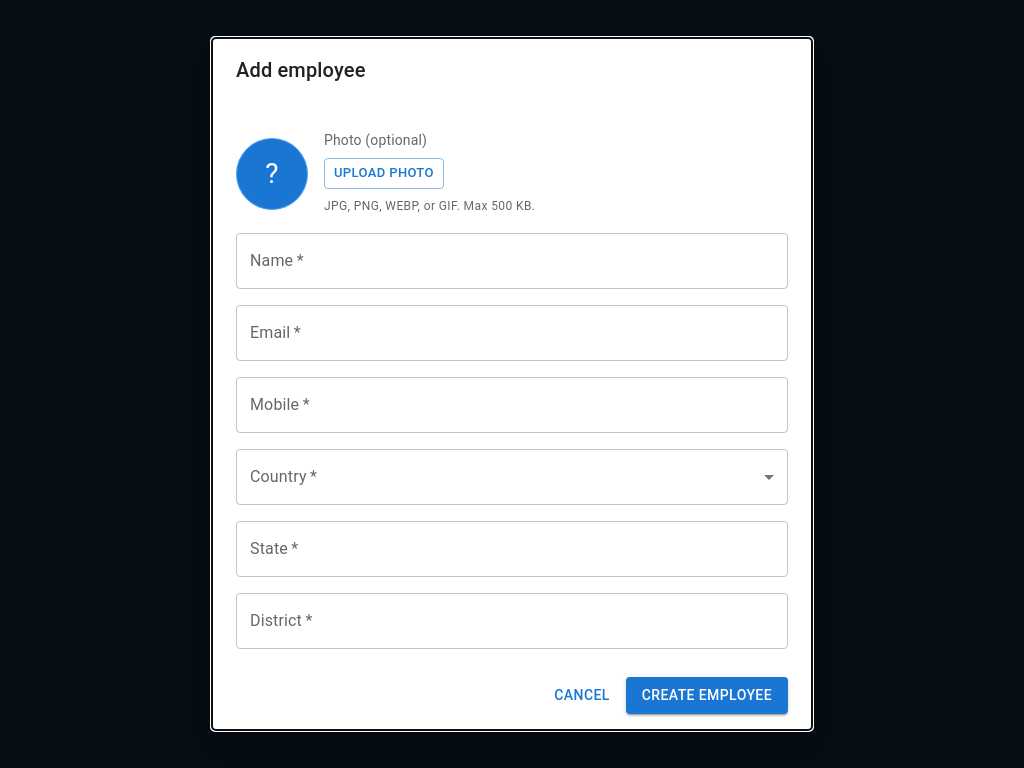
Scenario: EmployeeForm › shows validation messages when required fields are empty
Click the button "Create employee": (707, 695) left=626, top=677, right=788, bottom=714
(page scrolled)
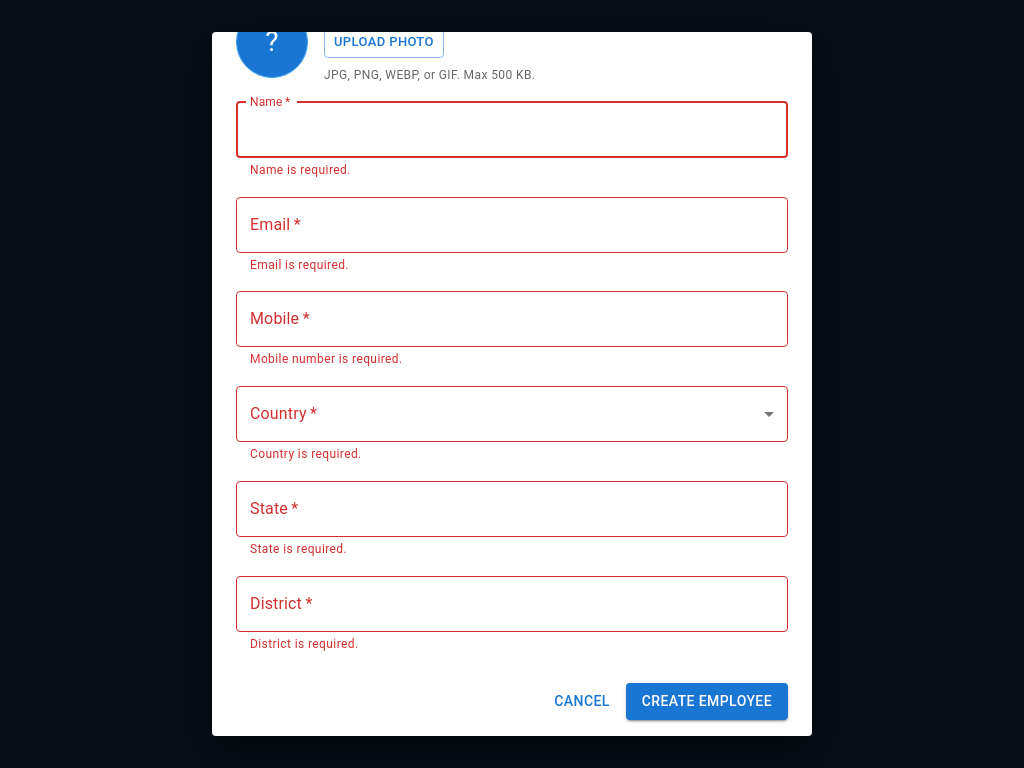
Result: the text "Name is required." is shown at left=250, top=163, right=351, bottom=177
Result: the text "Email is required." is shown at left=250, top=258, right=349, bottom=272
Result: the text "Mobile number is required." is shown at left=250, top=352, right=403, bottom=366
